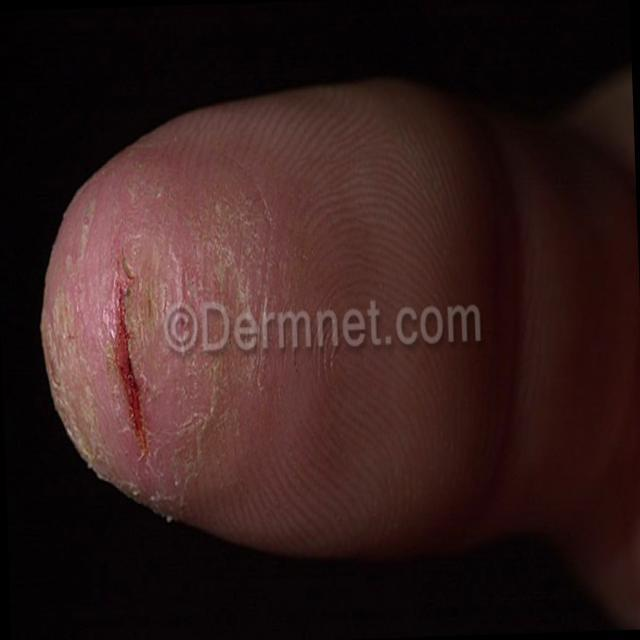Eczema: (49, 177, 293, 476)
